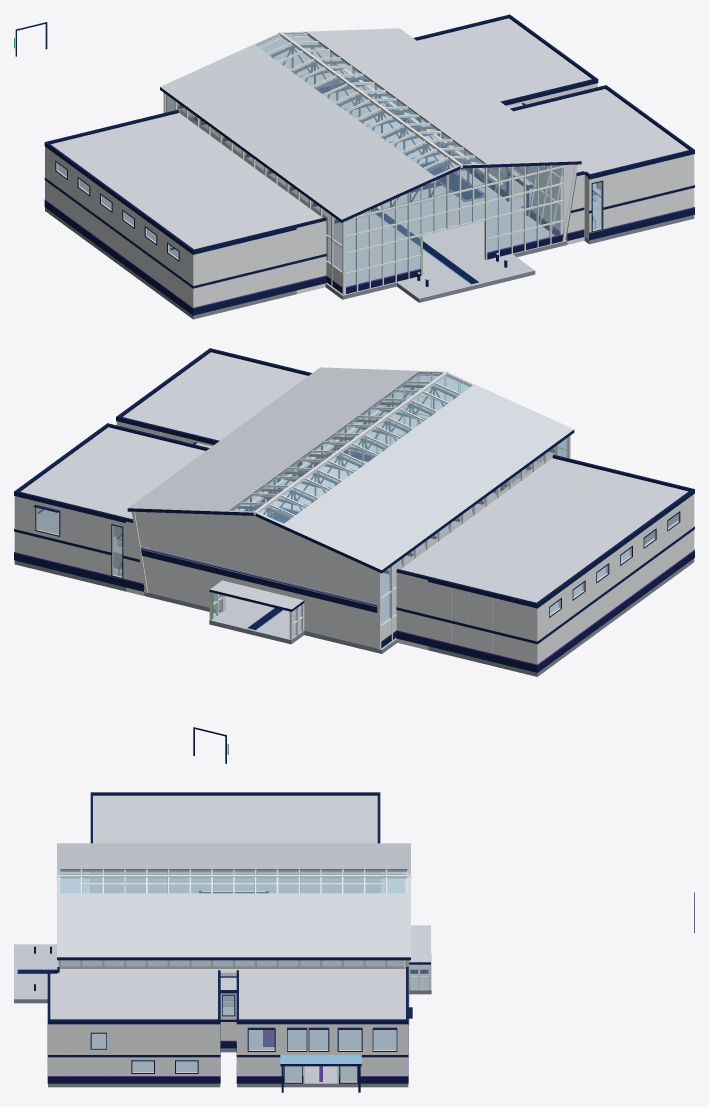
File: LLASO_Facility_MIRRORED.obj
3 views of the same model, one above another, from view 1: azimuth 30°, elevation 25°; view 2: azimuth 150°, elevation 25°; view 3: azimuth 270°, elevation 25° (orthographic). The views are drawn at different scales.
Visible parts, largest first — view 1: LLASO_Facility, LLASO_Room_RobotHangar, LLASO_Room_IDK, LLASO_Room_EntranceLobby, LLASO_Connector_North, LLASO_Connector_South; view 2: LLASO_Facility, LLASO_Room_RobotHangar, LLASO_Room_EntranceLobby, LLASO_Room_IDK, LLASO_Connector_North, LLASO_Connector_South, LLASO_L2_Slab; view 3: LLASO_Facility, LLASO_Room_IDK, LLASO_Room_EntranceLobby, LLASO_Room_RobotHangar, LLASO_L2_Slab, LLASO_Connector_South, LLASO_L2_Bridge, LLASO_Link_IDK_Lobby.
Boxes of the visible parts, x1,y1,x2,y2 form: LLASO_Facility: (160,28,581,302); LLASO_Room_RobotHangar: (44,117,296,319); LLASO_Room_IDK: (510,85,694,244); LLASO_Room_EntranceLobby: (14,14,598,106); LLASO_Connector_North: (148,109,326,293); LLASO_Connector_South: (565,169,584,244); LLASO_Facility: (127,367,574,653); LLASO_Room_RobotHangar: (427,462,694,676); LLASO_Room_EntranceLobby: (14,423,228,763); LLASO_Room_IDK: (116,348,311,446); LLASO_Connector_North: (396,455,584,650); LLASO_Connector_South: (125,517,144,595); LLASO_L2_Slab: (37,510,122,556); LLASO_Facility: (14,843,431,1024); LLASO_Room_IDK: (47,970,220,1087); LLASO_Room_EntranceLobby: (236,892,694,1092); LLASO_Room_RobotHangar: (90,792,380,843); LLASO_L2_Slab: (91,1030,396,1049); LLASO_Connector_South: (57,967,408,1000); LLASO_L2_Bridge: (220,976,236,1019); LLASO_Link_IDK_Lobby: (220,1006,236,1052).
Bounding box in the file's own units: 77.36 × 15.7 × 93.8.
